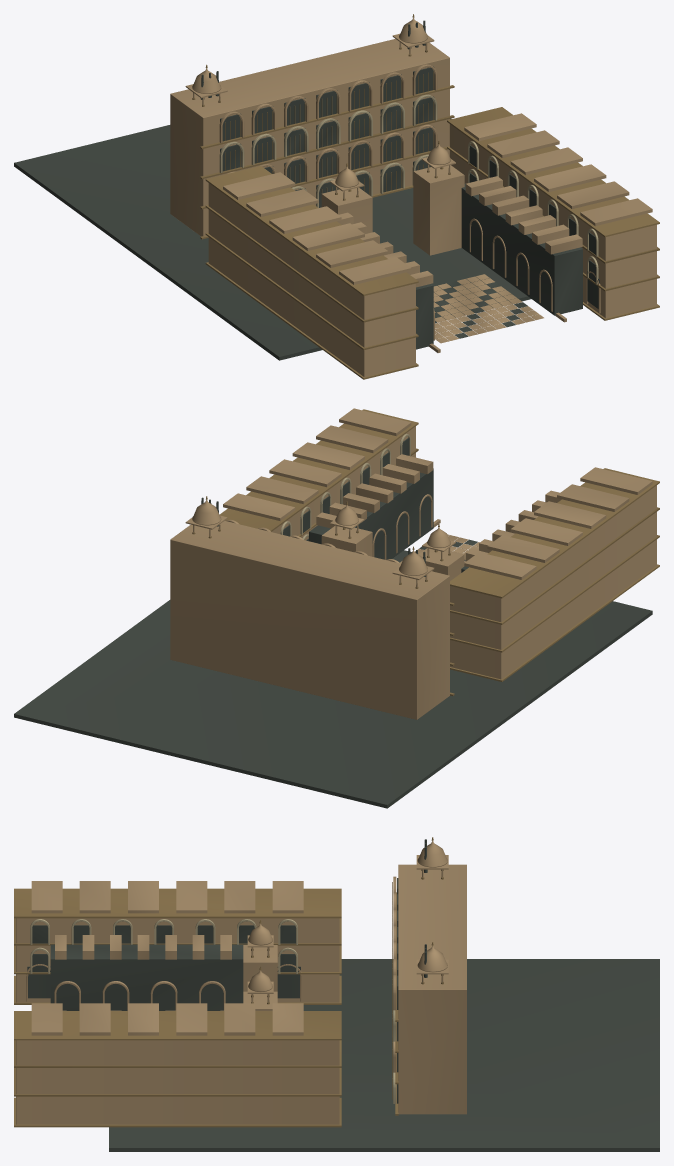
The model's file is arena-80.glb.
3 renders of one model, top to bottom at view 1: azimuth 30°, elevation 25°; view 2: azimuth 150°, elevation 25°; view 3: azimuth 270°, elevation 25°, orthographic. The views are drawn at different scales.
Parts seen in each view (by area): view 1: correction-sand, correction-dark, correction-bronze, correction-plaster; view 2: correction-sand, correction-dark, correction-bronze, correction-plaster; view 3: correction-sand, correction-dark, correction-bronze, correction-plaster.
Boxes of the visible parts, x1,y1,x2,y2 form: correction-sand: [170, 17, 656, 376]; correction-dark: [14, 20, 599, 360]; correction-bronze: [192, 14, 659, 379]; correction-plaster: [219, 94, 598, 284]; correction-sand: [170, 408, 656, 719]; correction-dark: [14, 438, 652, 808]; correction-bronze: [192, 409, 659, 695]; correction-plaster: [280, 433, 410, 539]; correction-sand: [16, 840, 466, 1124]; correction-dark: [27, 839, 659, 1151]; correction-bronze: [14, 837, 443, 1127]; correction-plaster: [30, 919, 396, 1103].
Bounding box in the file's own units: 65 × 26.86 × 93.8.
